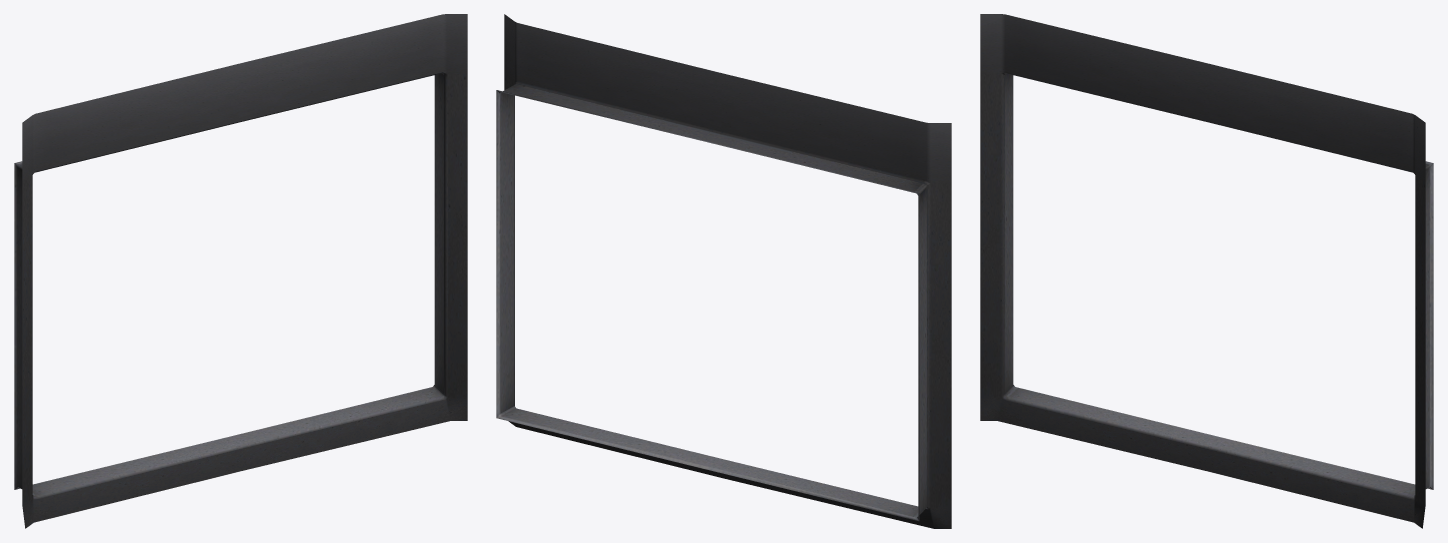
File: wall01.FBX
3 views of the same model, side by side, from view 1: azimuth 30°, elevation 25°; view 2: azimuth 150°, elevation 25°; view 3: azimuth 330°, elevation 25° (orthographic).
Parts seen in each view (by area): view 1: wall01; view 2: wall01; view 3: wall01.
Part boxes in pixels (<box>): wall01: <box>14,14,467,528</box>; wall01: <box>496,14,951,528</box>; wall01: <box>980,14,1433,528</box>.
Bounding box in the file's own units: 259 × 226 × 21.65.
1 material, 1 textured.
